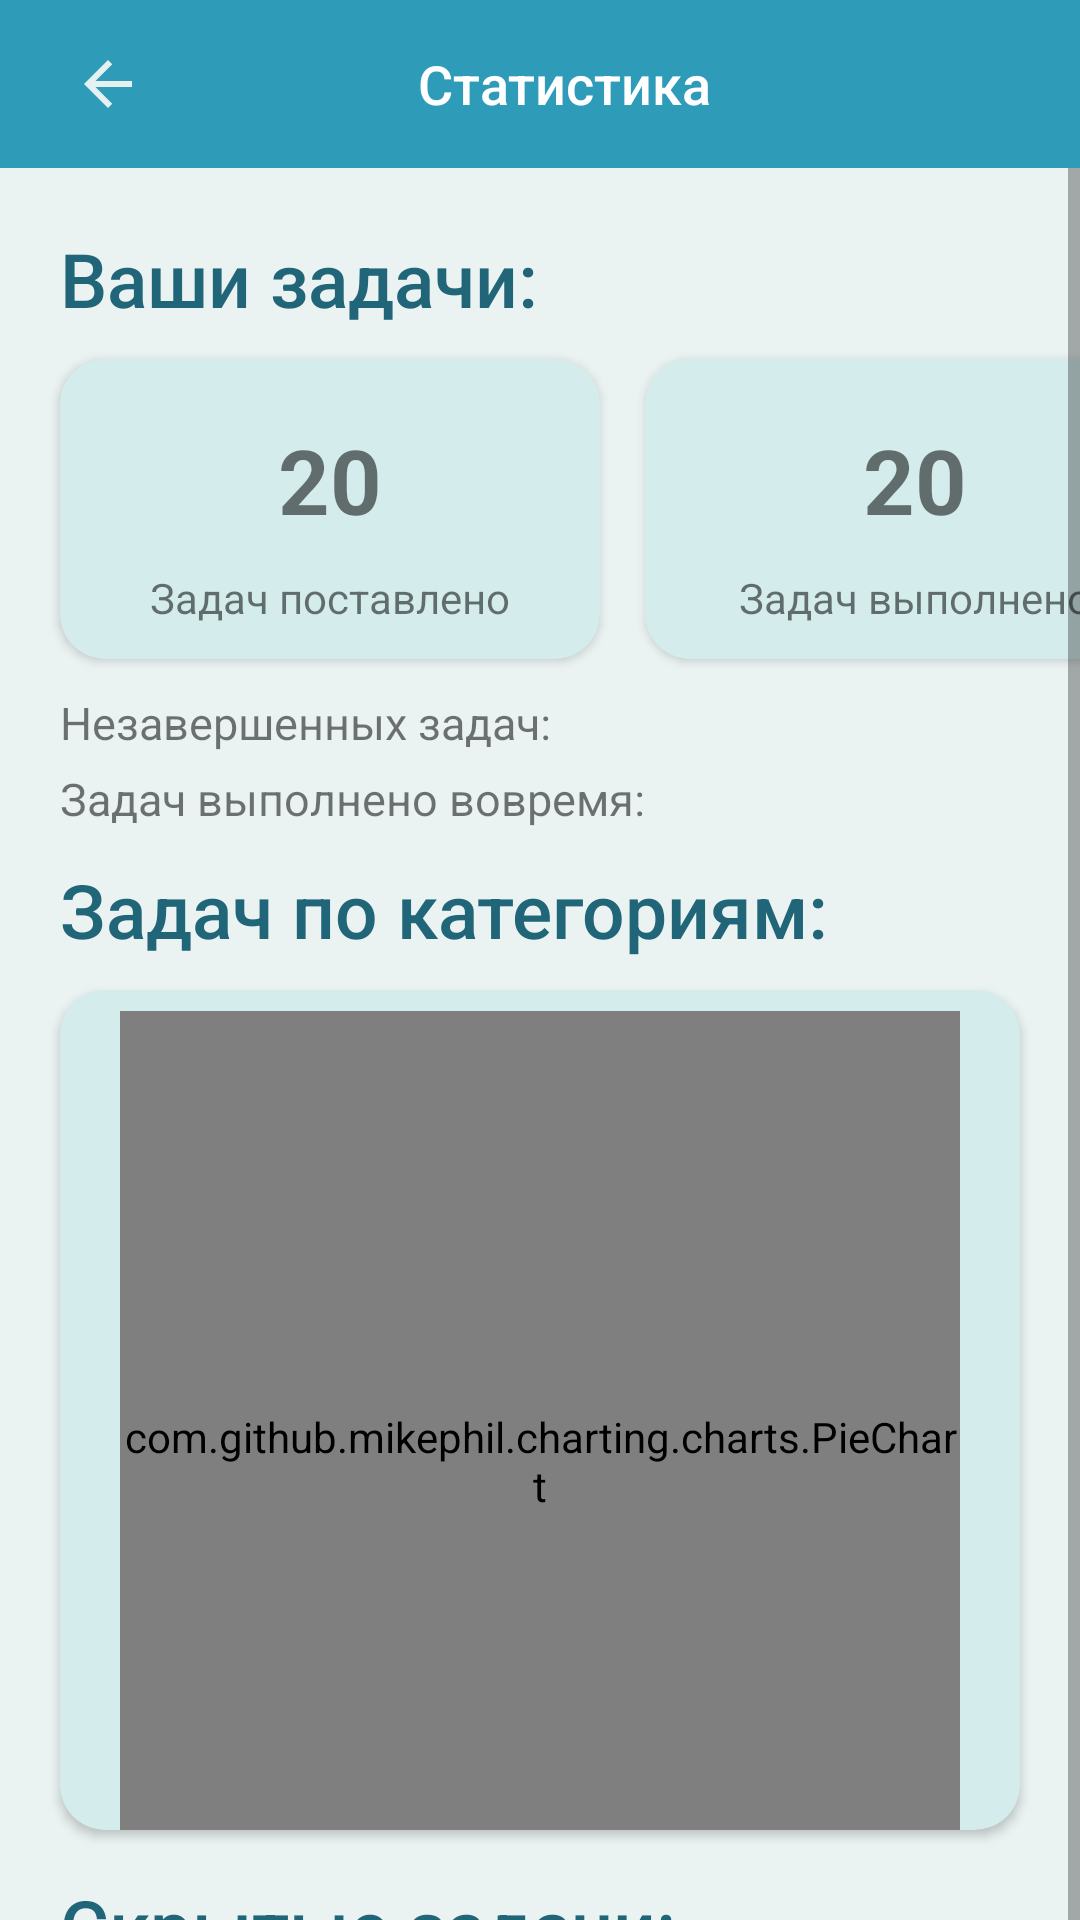

Screen size 1080*1920. Icon name, then its box in pixels as [x1=x1, y1=y1, x2=x2, y2=y2]:
arrow back: [x1=84, y1=60, x2=132, y2=108]
